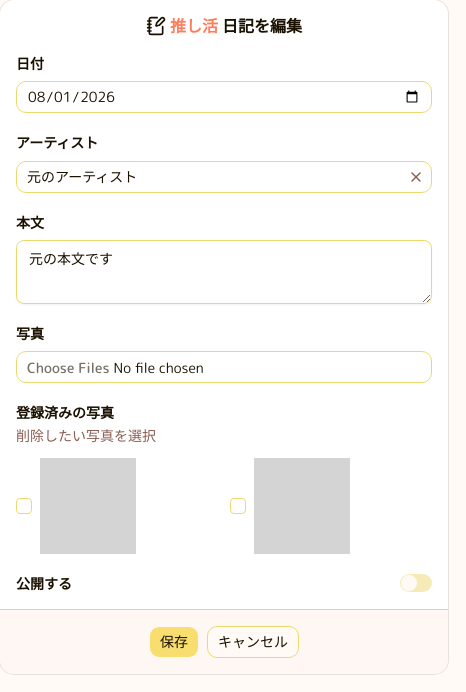
Test case: DiaryEditForm › アーティストを変更できる
The image size is (466, 692).
Step 1. Replace the text in the dropdown with placeholder "アーティストを選択" with "新しい" → (210, 176), box [17, 160, 404, 192]
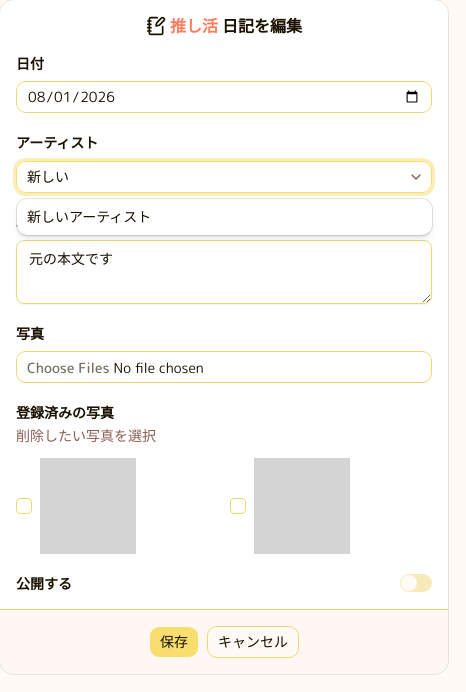
Step 2. Click the option "新しいアーティスト" → (89, 216), box [27, 207, 151, 226]
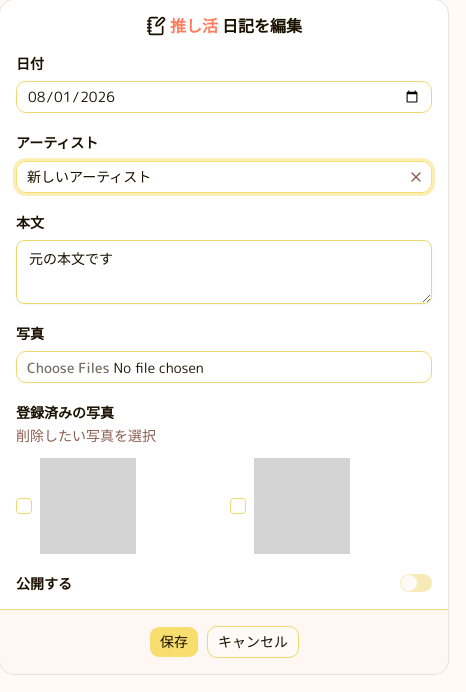
Expected: the dropdown with placeholder "アーティストを選択" holds "新しいアーティスト", [17, 160, 404, 192]
